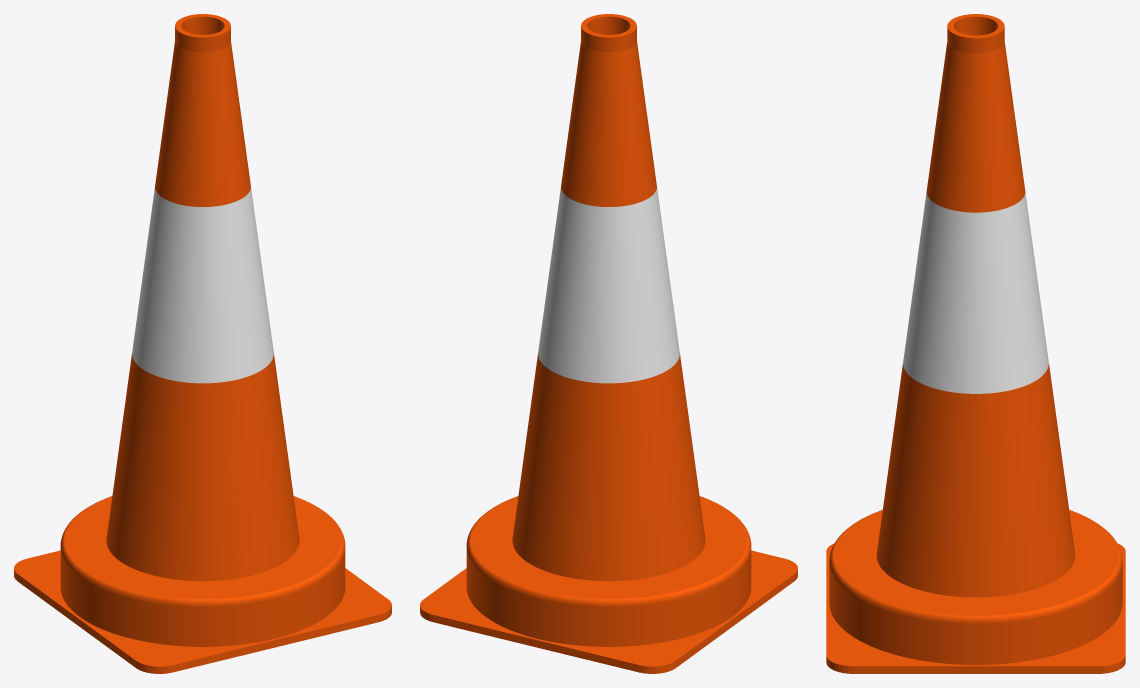
Rendered from class_3.dae.
3 views of the same model, side by side, from view 1: azimuth 30°, elevation 25°; view 2: azimuth 150°, elevation 25°; view 3: azimuth 270°, elevation 25° (orthographic). The views are drawn at different scales.
Visible parts, largest first — view 1: Blue_Cone.001; view 2: Blue_Cone.001; view 3: Blue_Cone.001.
Part boxes in pixels (x1,y1,x2,y2): Blue_Cone.001: (14,14,391,673); Blue_Cone.001: (420,14,797,673); Blue_Cone.001: (826,14,1125,673).
Size of the model in its own units: 0.228 by 0.228 by 0.4912.
